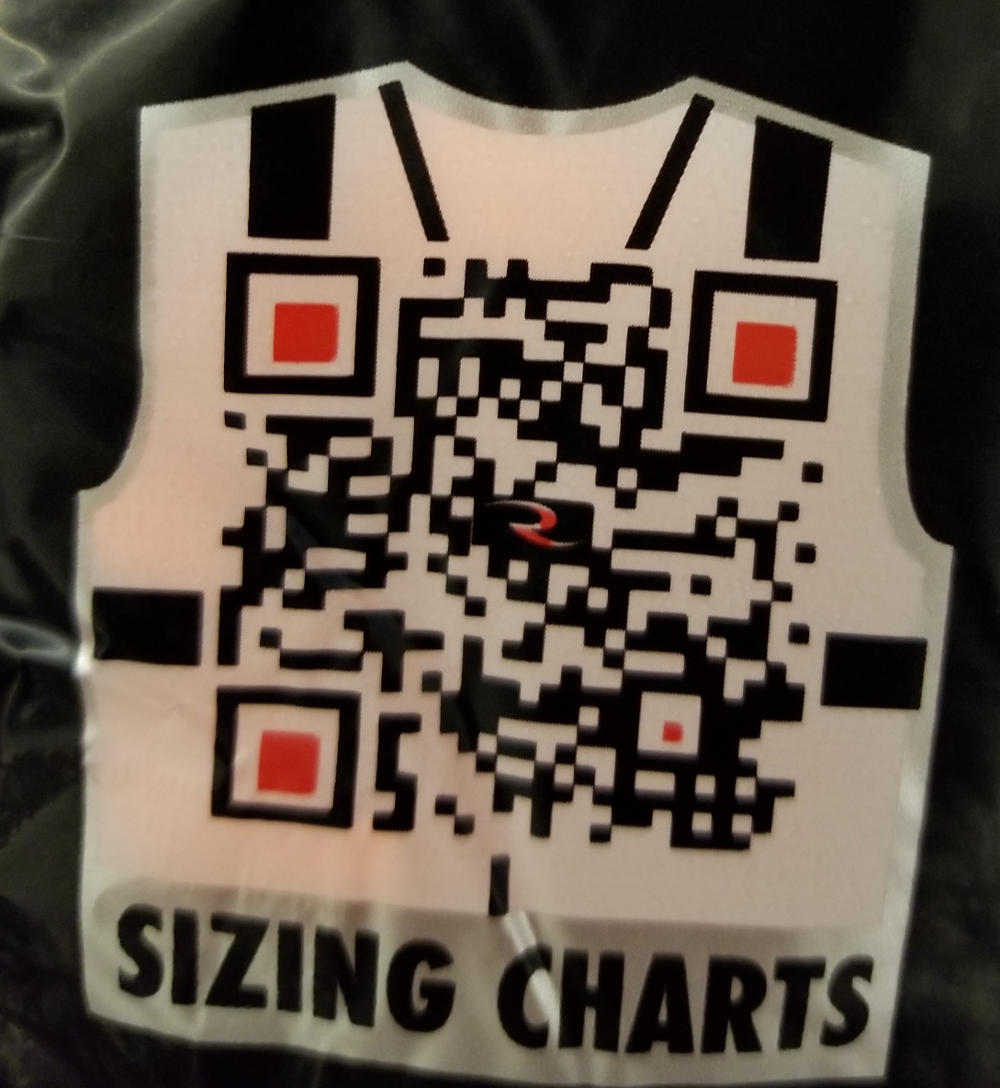QR_CODE: (175, 224, 851, 876)
